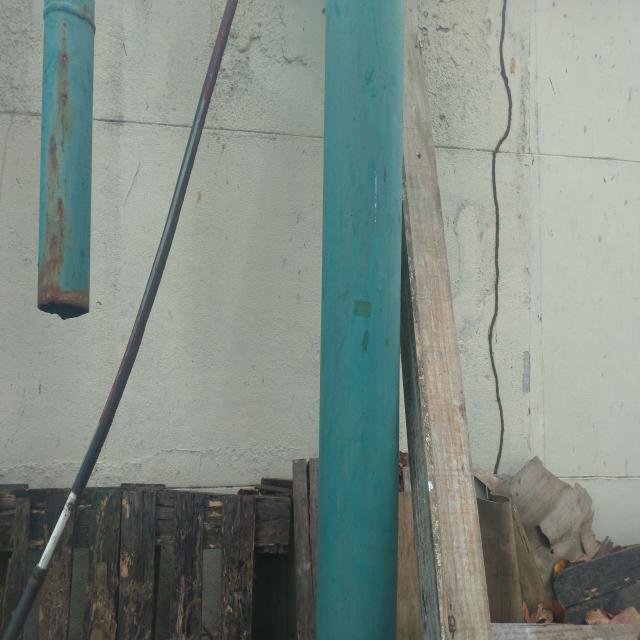gas: (33, 0, 97, 317)
